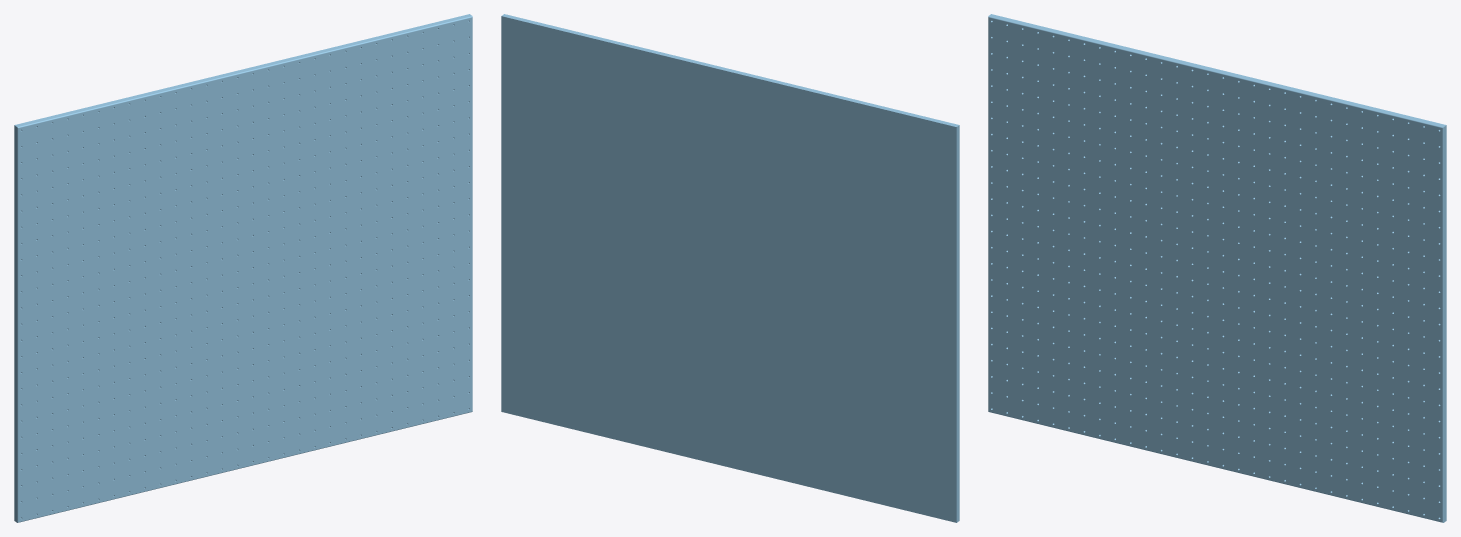
The model's file is Peg_Board.obj.
3 views of the same model, side by side, from view 1: azimuth 30°, elevation 25°; view 2: azimuth 150°, elevation 25°; view 3: azimuth 330°, elevation 25° (orthographic).
Parts seen in each view (by area): view 1: mesh2, mesh7, mesh8, mesh4, mesh11, mesh5; view 2: mesh10, mesh8, mesh7; view 3: mesh2, mesh7, mesh6, mesh4, mesh3, mesh5.
Boxes of the visible parts, x1,y1,x2,y2 form: mesh2: (18,18,471,521); mesh7: (14,14,471,126); mesh8: (14,125,16,522); mesh4: (17,16,472,128); mesh11: (17,127,18,522); mesh5: (18,411,472,522); mesh10: (501,16,956,522); mesh8: (956,125,959,522); mesh7: (502,14,958,126); mesh2: (989,18,1442,521); mesh7: (989,14,1446,126); mesh6: (1444,125,1446,522); mesh4: (988,16,1443,128); mesh3: (1442,127,1443,522); mesh5: (988,411,1442,522).
Size of the model in its own units: 1.2 by 0.9957 by 0.0152.
